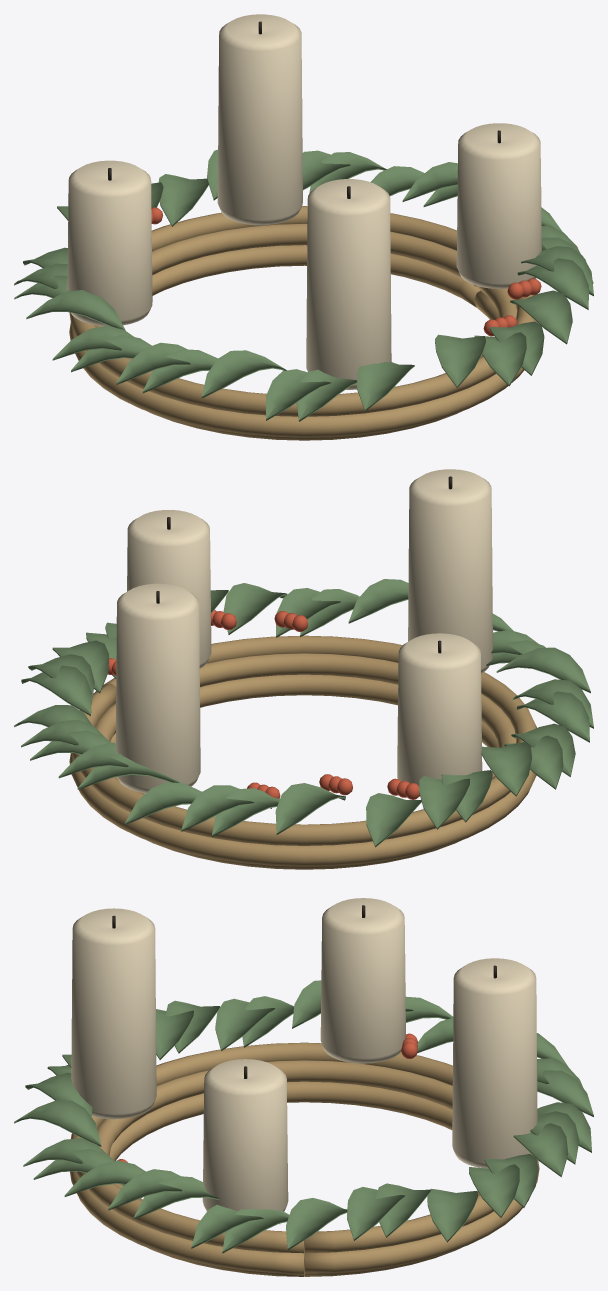
The model's file is advent_wreath.glb.
3 views of the same model, one above another, from view 1: azimuth 30°, elevation 25°; view 2: azimuth 150°, elevation 25°; view 3: azimuth 270°, elevation 25° (orthographic).
Visible parts, largest first — view 1: advent_wreath__wax, advent_wreath__foliage, advent_wreath__body, advent_wreath__berries; view 2: advent_wreath__wax, advent_wreath__foliage, advent_wreath__body, advent_wreath__berries; view 3: advent_wreath__wax, advent_wreath__foliage, advent_wreath__body.
Boxes of the visible parts, x1,y1,x2,y2 form: advent_wreath__wax: (67,14,541,389); advent_wreath__foliage: (14,149,593,421); advent_wreath__body: (69,206,538,440); advent_wreath__berries: (151,207,541,336); advent_wreath__wax: (115,469,492,793); advent_wreath__foliage: (14,579,593,847); advent_wreath__body: (69,635,536,869); advent_wreath__berries: (108,609,419,799); advent_wreath__wax: (71,898,537,1211); advent_wreath__foliage: (14,980,593,1253); advent_wreath__body: (70,1042,539,1276).
Bounding box in the file's own units: 0.4076 × 0.192 × 0.4071.
